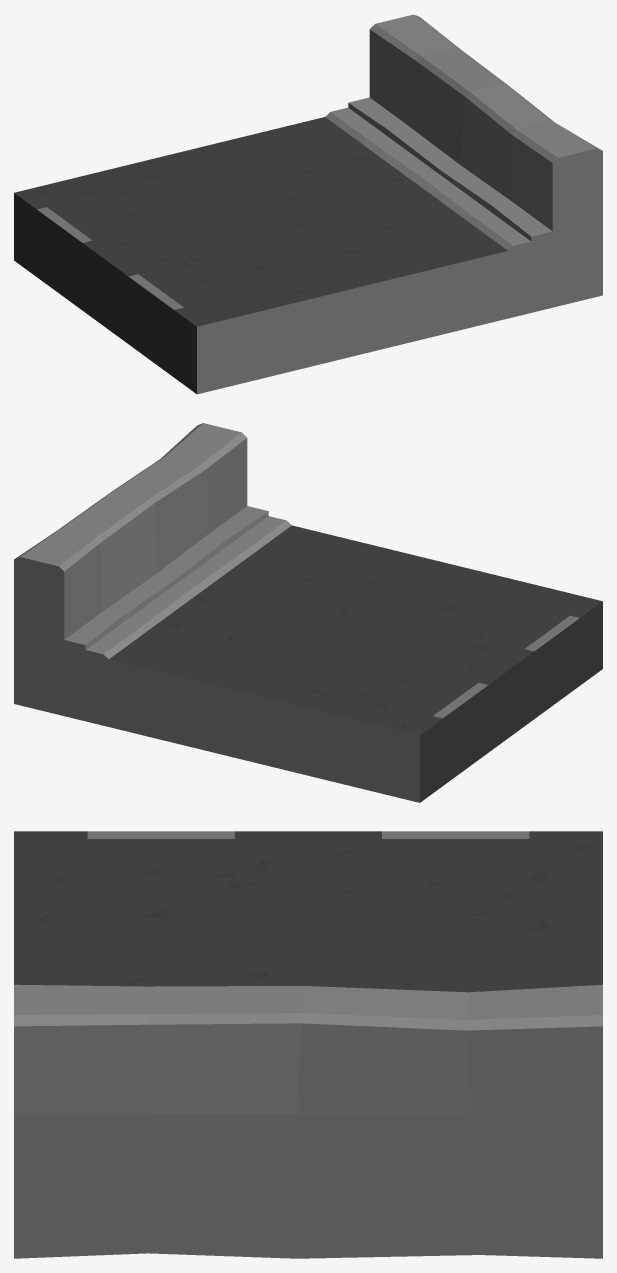
The model's file is SM_Env_Motorway_Edge_01.glb.
The picture shows the model from 3 angles, top to bottom: view 1: azimuth 30°, elevation 25°; view 2: azimuth 150°, elevation 25°; view 3: azimuth 270°, elevation 25°; orthographic projection. The views are drawn at different scales.
Visible parts, largest first — view 1: SM_Env_Motorway_Edge_01; view 2: SM_Env_Motorway_Edge_01; view 3: SM_Env_Motorway_Edge_01.
Boxes of the visible parts, box(x1,y1,x2,y2) form: SM_Env_Motorway_Edge_01: box(14, 14, 602, 394); SM_Env_Motorway_Edge_01: box(14, 423, 602, 802); SM_Env_Motorway_Edge_01: box(14, 831, 602, 1258).
Size of the model in its own units: 6.4 by 2.24 by 5.
Materials: 1 (1 with a texture image).
